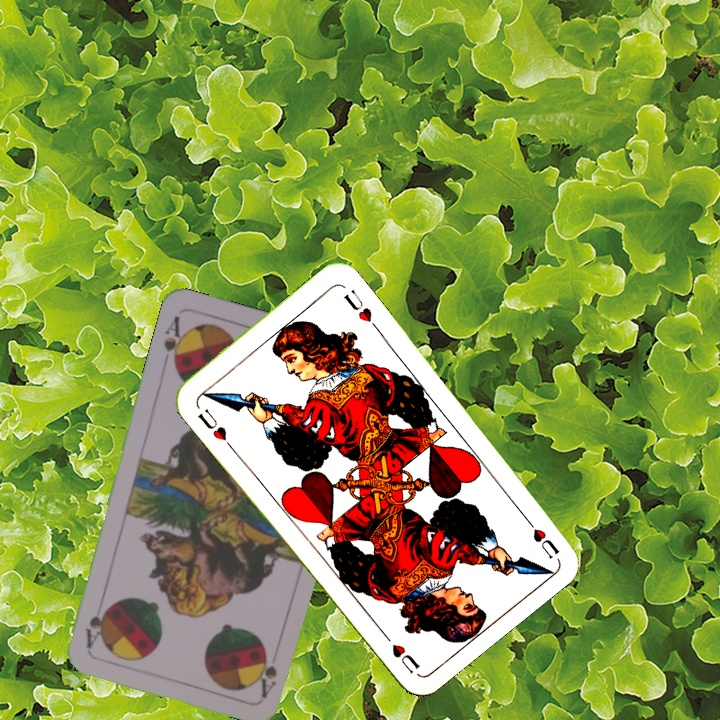HU: (518, 510, 562, 562), (193, 404, 235, 450)
SA: (158, 311, 189, 372), (256, 649, 280, 700)
